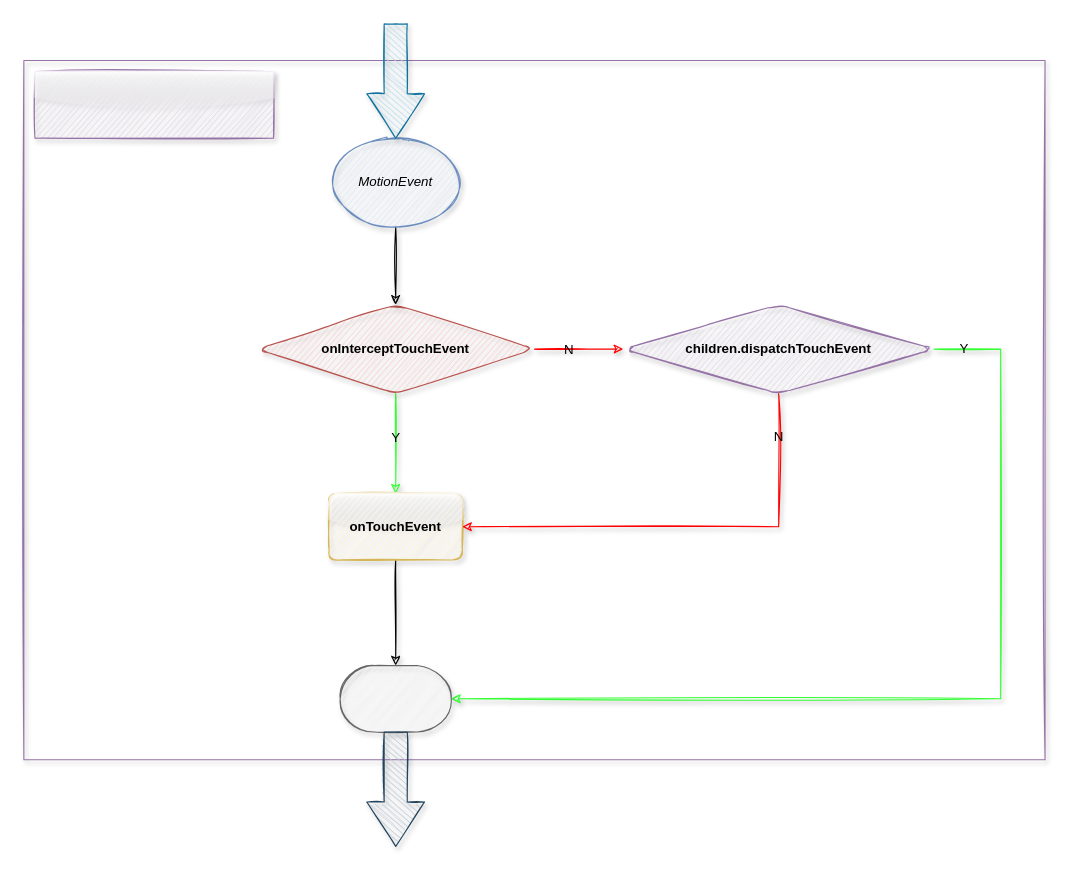
This 1071x872 diagram has some shape labels left out. The shapes that lost their labels are listed below. From the top down, each one's centre as x and y in pixels, then its label:
point (154, 106): dispatchTouchEvent
point (396, 700): 消费状态
